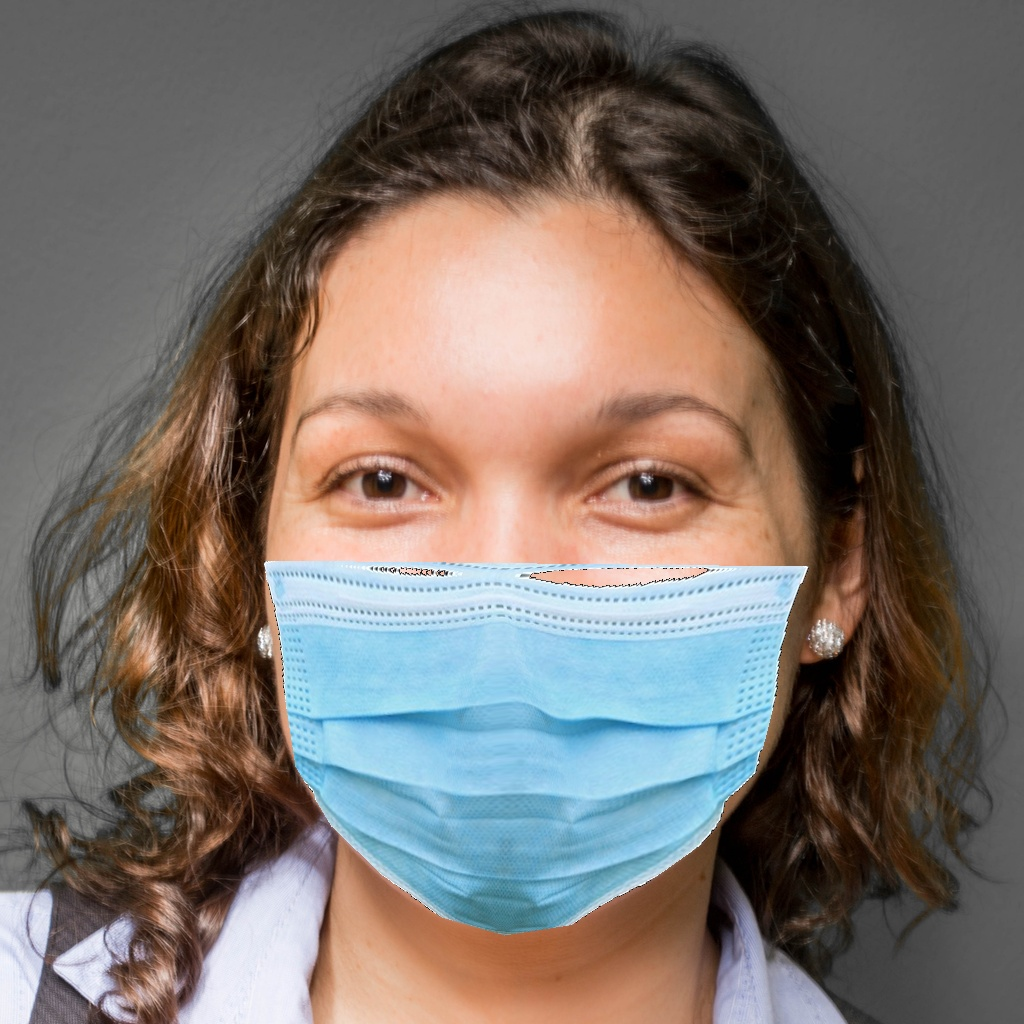Mask: (260, 339, 807, 936)
